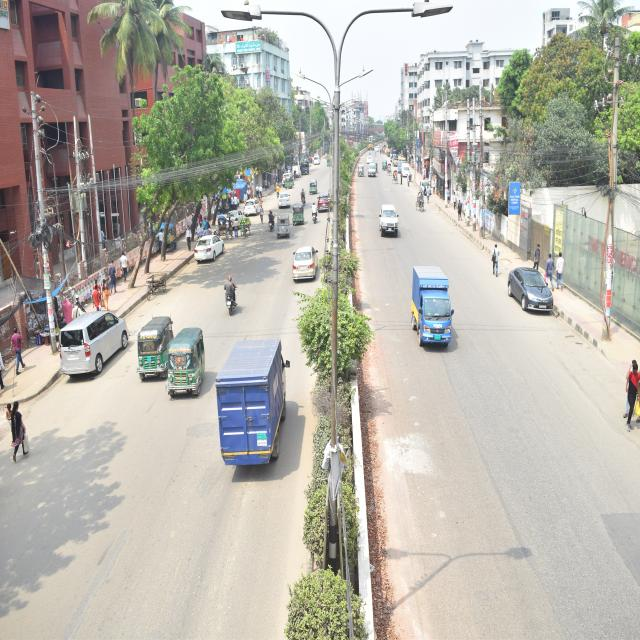car: (500, 253, 563, 320), (290, 241, 326, 294), (373, 206, 408, 242), (188, 224, 221, 257), (314, 187, 342, 223), (216, 211, 249, 241), (240, 191, 265, 220), (364, 161, 382, 179), (286, 161, 304, 172), (279, 170, 293, 184), (400, 164, 411, 177)
microbus: (61, 315, 138, 388)
motorbike: (223, 271, 240, 314), (310, 202, 322, 232), (266, 199, 274, 237), (298, 190, 310, 207)
pickup-van: (209, 335, 283, 472), (414, 264, 468, 344)
